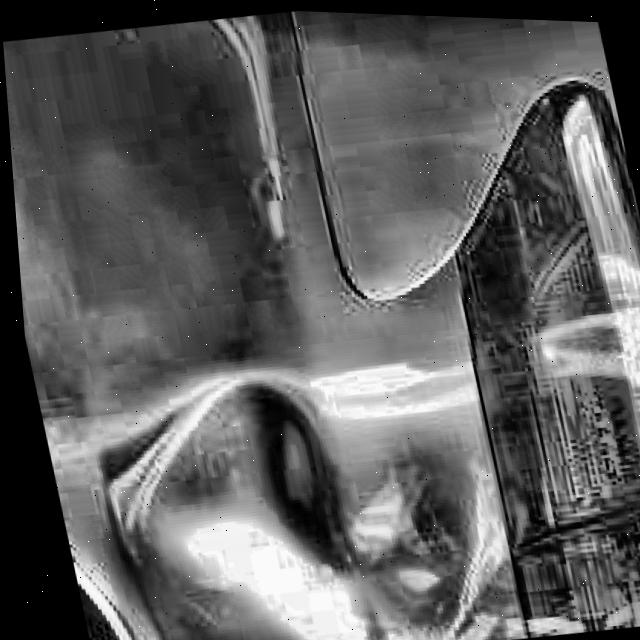bumper_dent: (117, 344, 510, 640)
